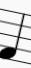note: (0, 5, 25, 64)
